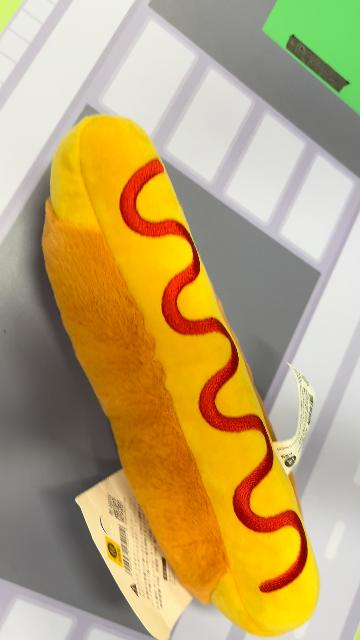hotdog: (40, 113, 322, 637)
